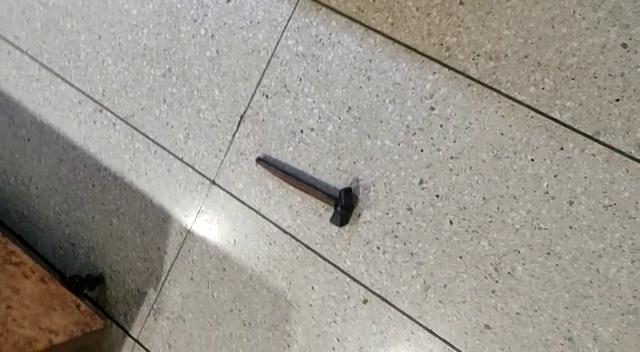hammer: (254, 155, 353, 230)
